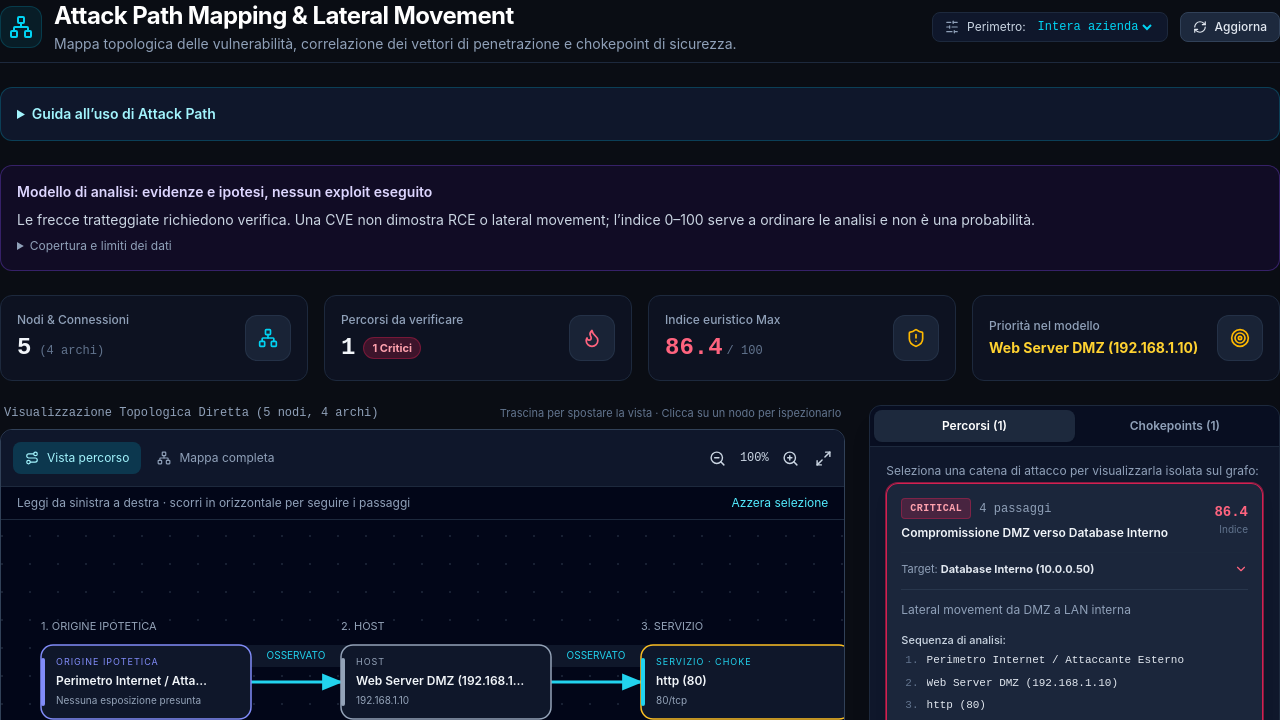
AttackPath Page - Visual Graph Explorer & Chokepoints › offers mitigation for a service chokepoint to SecOps
Click the button "Chokepoints (1)". click: (1175, 426)
box: x1=1075 y1=410 x2=1275 y2=442
(page scrolled)
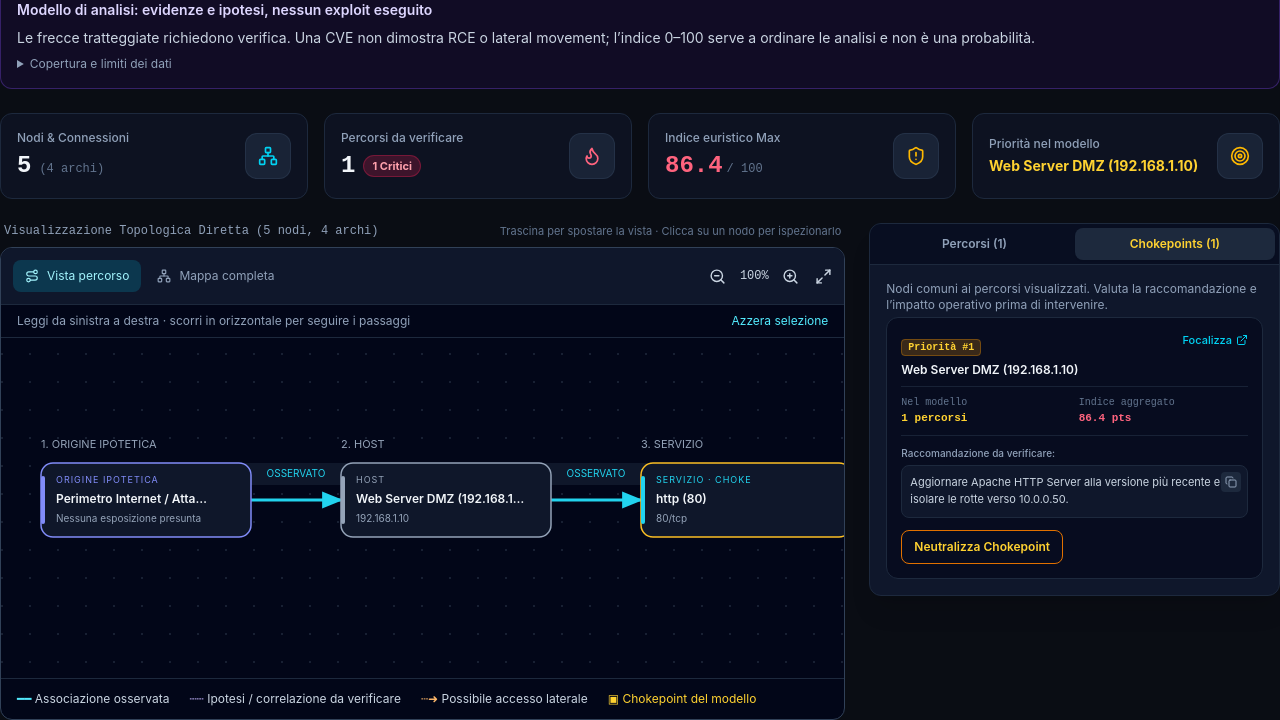
Expected: the button with aria-label "Neutralizza Chokepoint http (80)" is enabled, x1=901 y1=530 x2=1063 y2=564
